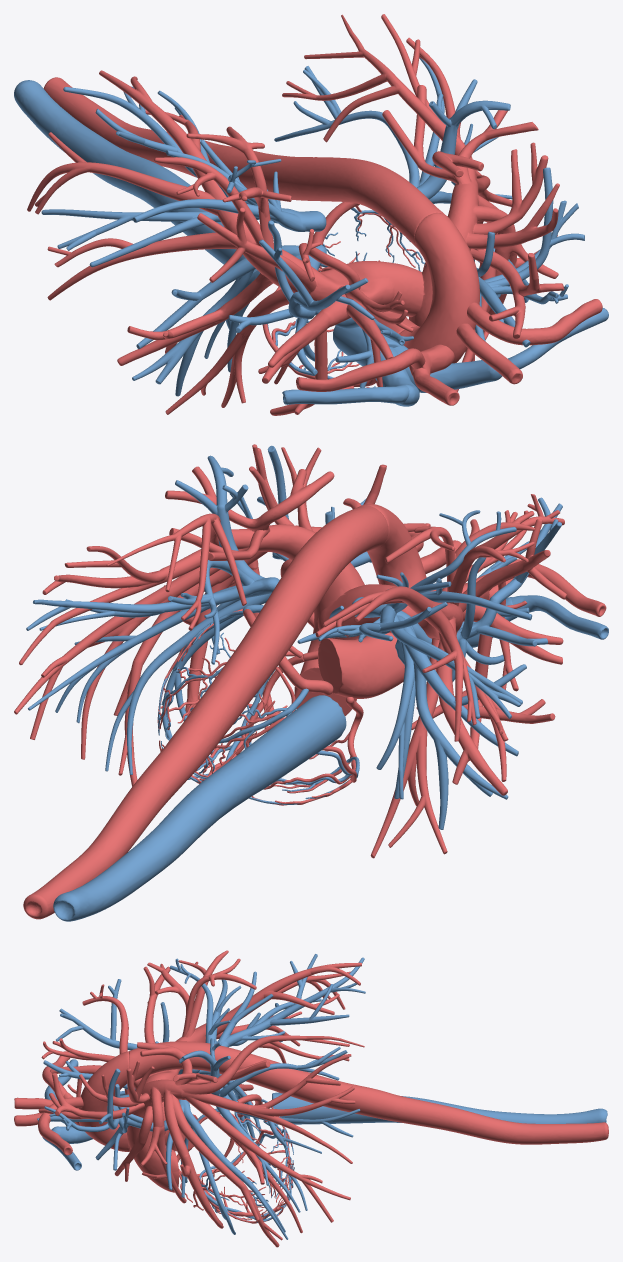
File: thorax-vaisseaux.glb
3 views of the same model, one above another, from view 1: azimuth 30°, elevation 25°; view 2: azimuth 150°, elevation 25°; view 3: azimuth 270°, elevation 25° (orthographic). The views are drawn at different scales.
Parts seen in each view (by area): view 1: artere_pulmonaire, veine_pulmonaire, aorte_descendante, arc_aortique, veine_cave_inferieure, artere_subclaviere_gauche, artere_subclaviere_droite, veine_subclaviere_droite, veine_brachio_cephalique_gauche, artere_carotide_commune_gauche, veine_subclaviere_gauche, veine_cave_superieure (+4 smaller); view 2: artere_pulmonaire, veine_pulmonaire, aorte_descendante, veine_cave_inferieure, aorte_ascendante, arc_aortique, veine_subclaviere_droite, artere_interventriculaire_anterieure, artere_subclaviere_droite, branche_marginale_droite, tronc_de_l_artere_coronaire_droite, veine_cardiaque_moyenne (+4 smaller); view 3: artere_pulmonaire, veine_pulmonaire, aorte_descendante, veine_cave_inferieure, arc_aortique, artere_subclaviere_gauche, artere_interventriculaire_anterieure, veine_brachio_cephalique_gauche, grande_veine_cardiaque, artere_carotide_commune_droite.
Boxes of the visible parts, x1,y1,x2,y2 form: artere_pulmonaire: (27, 14, 564, 415); veine_pulmonaire: (41, 57, 584, 396); aorte_descendante: (43, 77, 444, 248); arc_aortique: (399, 213, 479, 363); veine_cave_inferieure: (14, 80, 257, 272); artere_subclaviere_gauche: (467, 299, 602, 345); artere_subclaviere_droite: (296, 348, 425, 391); veine_subclaviere_droite: (282, 385, 409, 404); veine_brachio_cephalique_gauche: (394, 345, 502, 392); artere_carotide_commune_gauche: (456, 323, 522, 384); veine_subclaviere_gauche: (508, 308, 608, 369); veine_cave_superieure: (333, 318, 400, 366); artere_pulmonaire: (14, 444, 566, 858); veine_pulmonaire: (26, 445, 562, 829); aorte_descendante: (23, 505, 388, 919); veine_cave_inferieure: (53, 695, 346, 921); aorte_ascendante: (318, 633, 404, 698); arc_aortique: (362, 504, 430, 591); veine_subclaviere_droite: (511, 595, 608, 639); artere_interventriculaire_anterieure: (159, 654, 305, 783); artere_subclaviere_droite: (489, 559, 606, 616); branche_marginale_droite: (195, 732, 352, 805); tronc_de_l_artere_coronaire_droite: (275, 666, 363, 782); veine_cardiaque_moyenne: (161, 688, 308, 773); artere_pulmonaire: (38, 950, 364, 1247); veine_pulmonaire: (37, 954, 365, 1239); aorte_descendante: (129, 1041, 608, 1144); veine_cave_inferieure: (271, 1092, 607, 1124); arc_aortique: (78, 1051, 129, 1151); artere_subclaviere_gauche: (38, 1097, 83, 1155); artere_interventriculaire_anterieure: (193, 1169, 287, 1223); veine_brachio_cephalique_gauche: (51, 1126, 92, 1143); grande_veine_cardiaque: (184, 1100, 283, 1222); artere_carotide_commune_droite: (14, 1097, 53, 1109).
Bounding box in the file's own units: 248 × 161 × 425.
